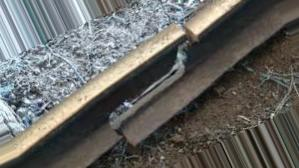tracks_fault: (91, 16, 220, 153)
